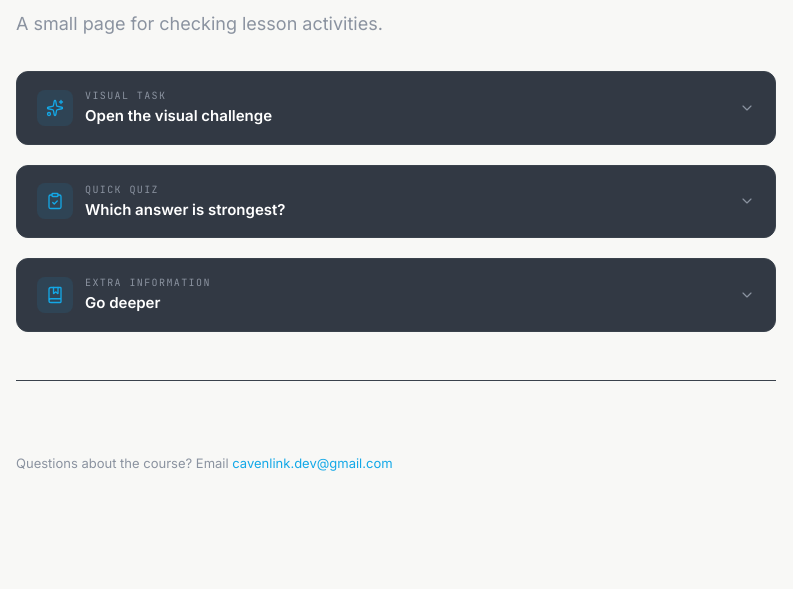
it: LearnArticle activities › gives immediate quiz feedback and allows another answer
Click the text "Which answer is strongest?".
click(185, 209)  # box [85,200,286,219]
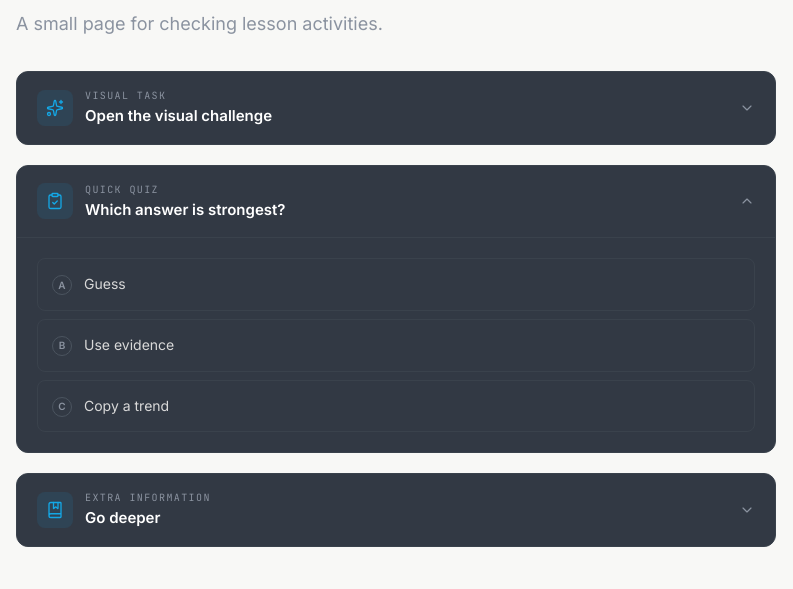
Click the button "A Guess".
click(105, 284)  # box [37,258,755,311]
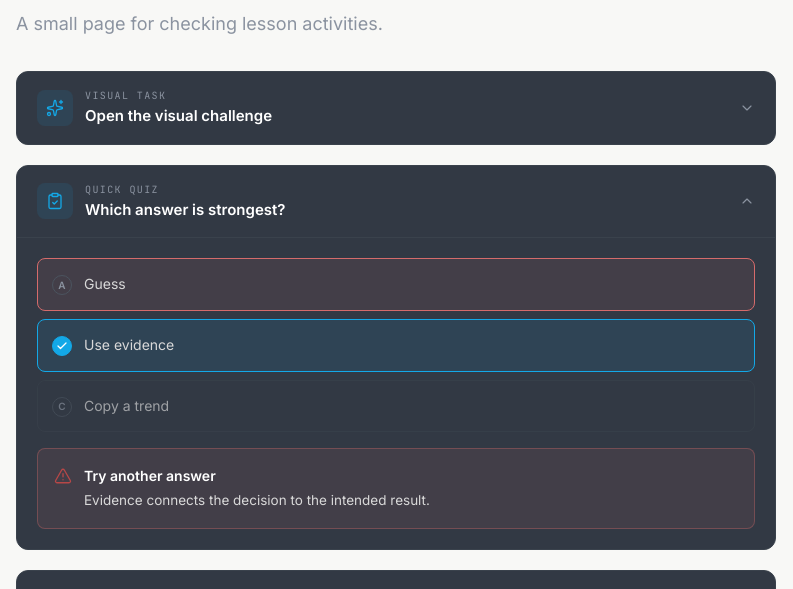
Expected: the text "Try another answer" is shown, [84,467,216,484]
Click the button "Use evidence".
click(129, 344)  # box [37,319,755,372]
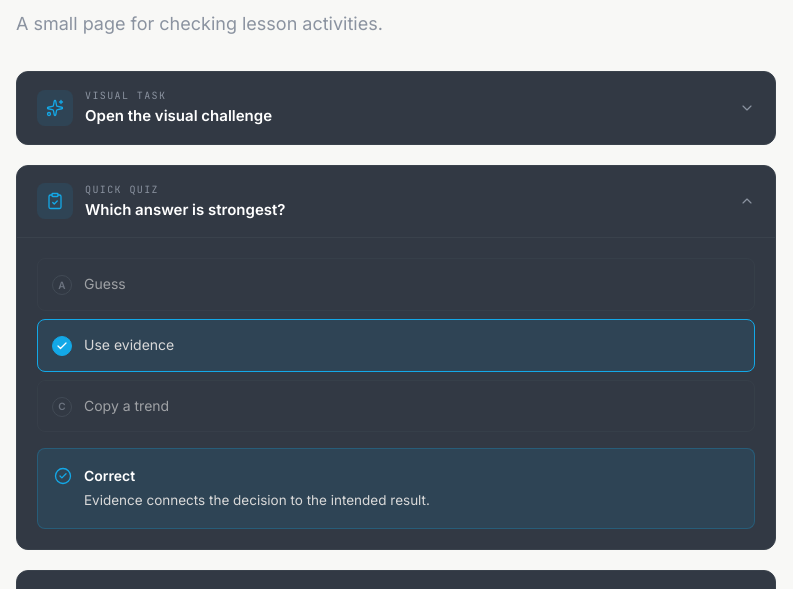
Expected: the text "Evidence connects the decision to the intended result." is shown, [84,490,430,512]
Expected: the text "Correct" is shown, [84,467,135,484]
